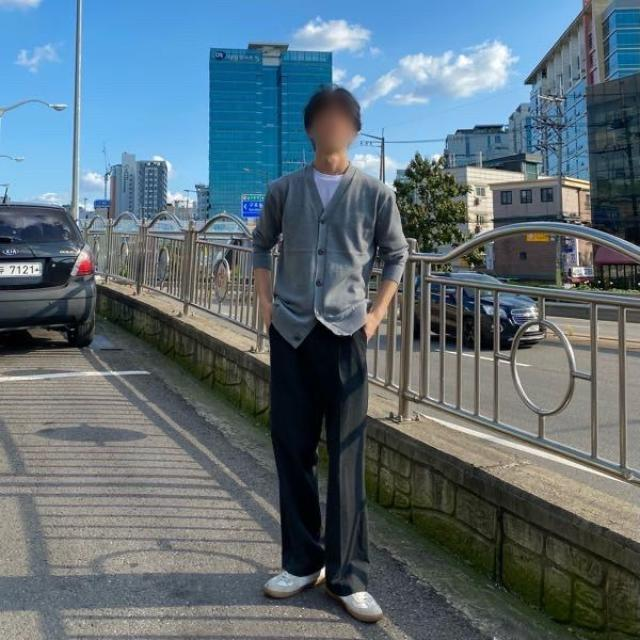cardigan: (252, 161, 408, 349)
slacks: (270, 317, 370, 595)
